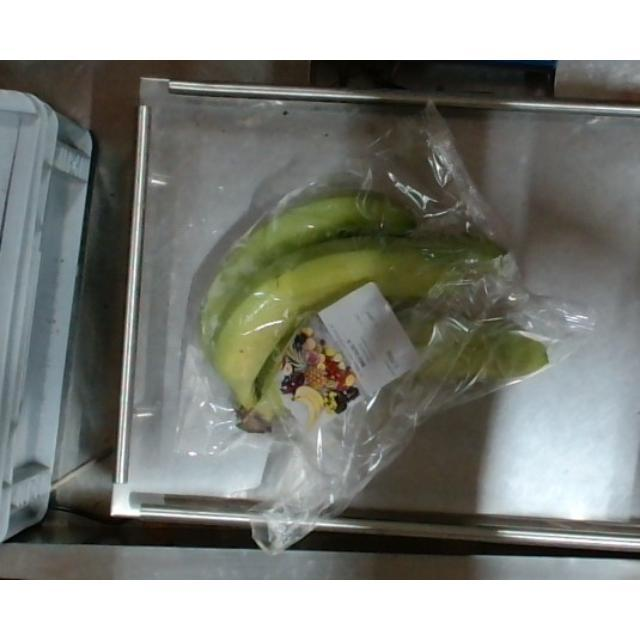cucumber: (221, 245, 533, 422), (202, 188, 418, 432), (237, 326, 583, 446)
